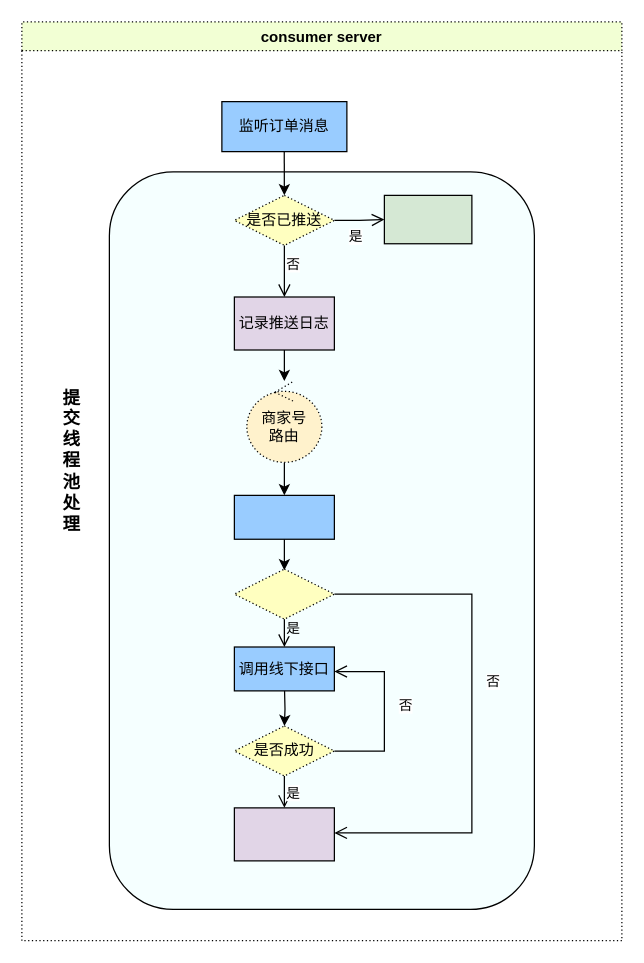
The diagram is 644 pixels wide and 963 high, and some of its shapes have lost their labels. Here are the shapes that lost their labels. From the top down, the centre of each, then its label:
At (427,219): "log日志记录".
At (283,516): "组装参数，订单状态过滤".
At (283,593): "是否满足 推送状态".
At (283,834): "更新推送日志状态".
